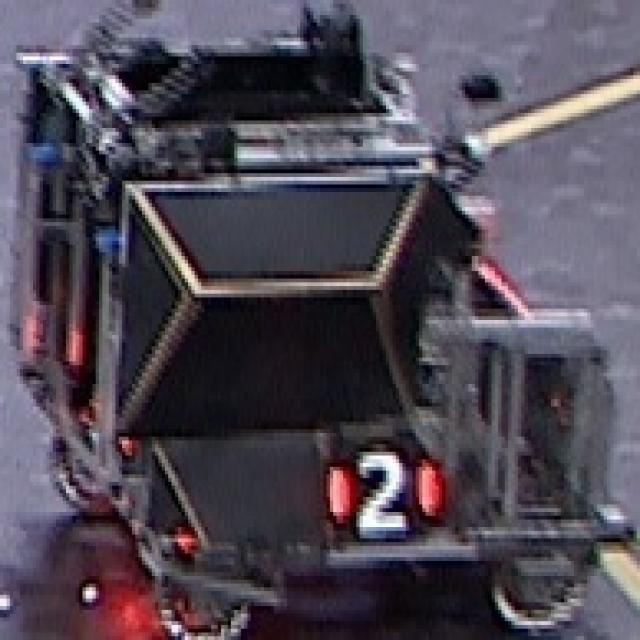R2: (323, 452, 439, 531)
